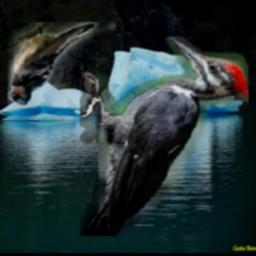Swallow: (8, 22, 116, 105)
Woodpecker: (80, 38, 248, 237)
